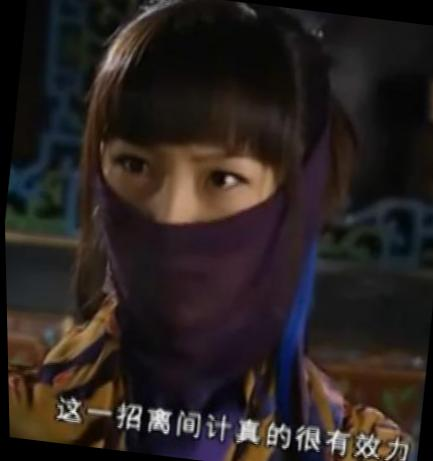WRONG: (79, 122, 288, 344)
